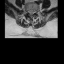CCS_normal: (30, 10, 32, 17)
LFS_normal: (33, 9, 35, 14)
LLS_normal: (32, 10, 33, 16)
RFS_normal: (27, 8, 29, 14)
RLS_normal: (29, 9, 30, 15)
